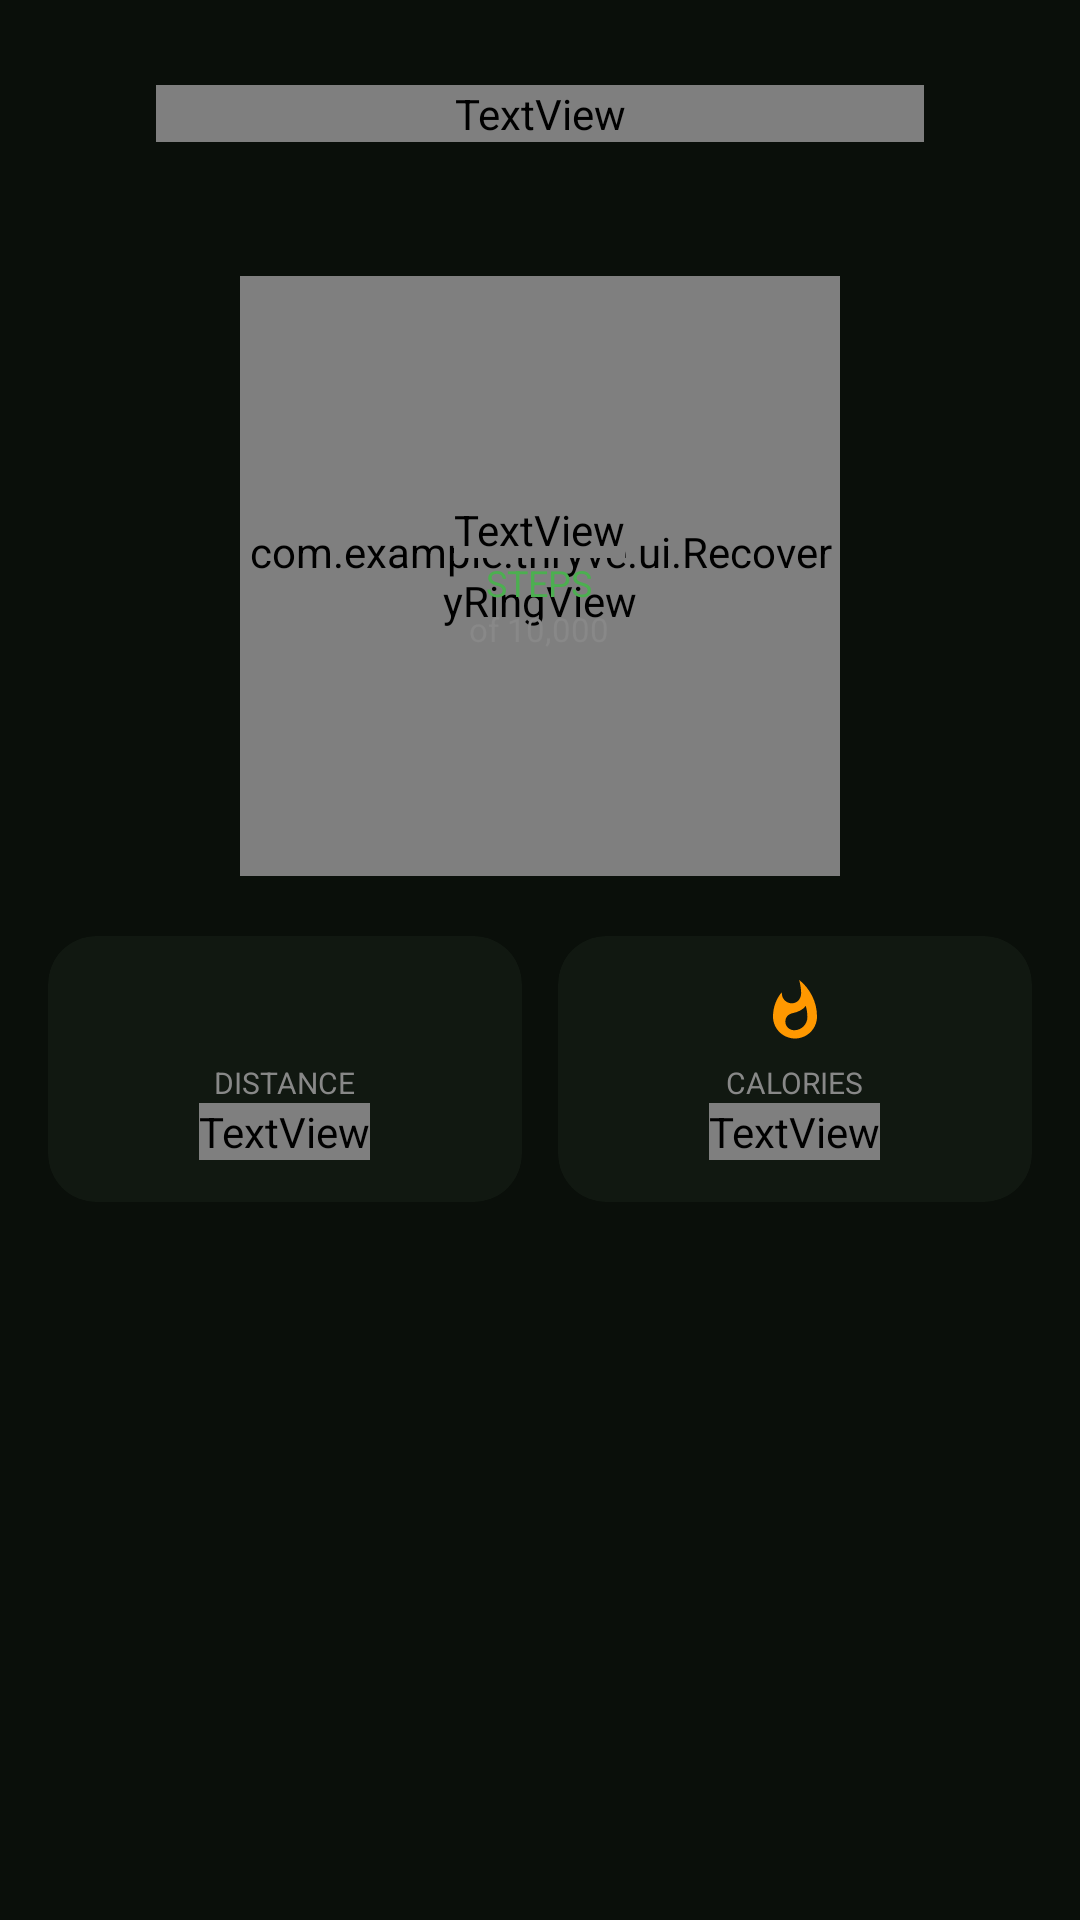

Icons on this 1080 x 1920 Android screen, each with the point to tap as (x=x, y=y):
flame: (x=795, y=1009)
